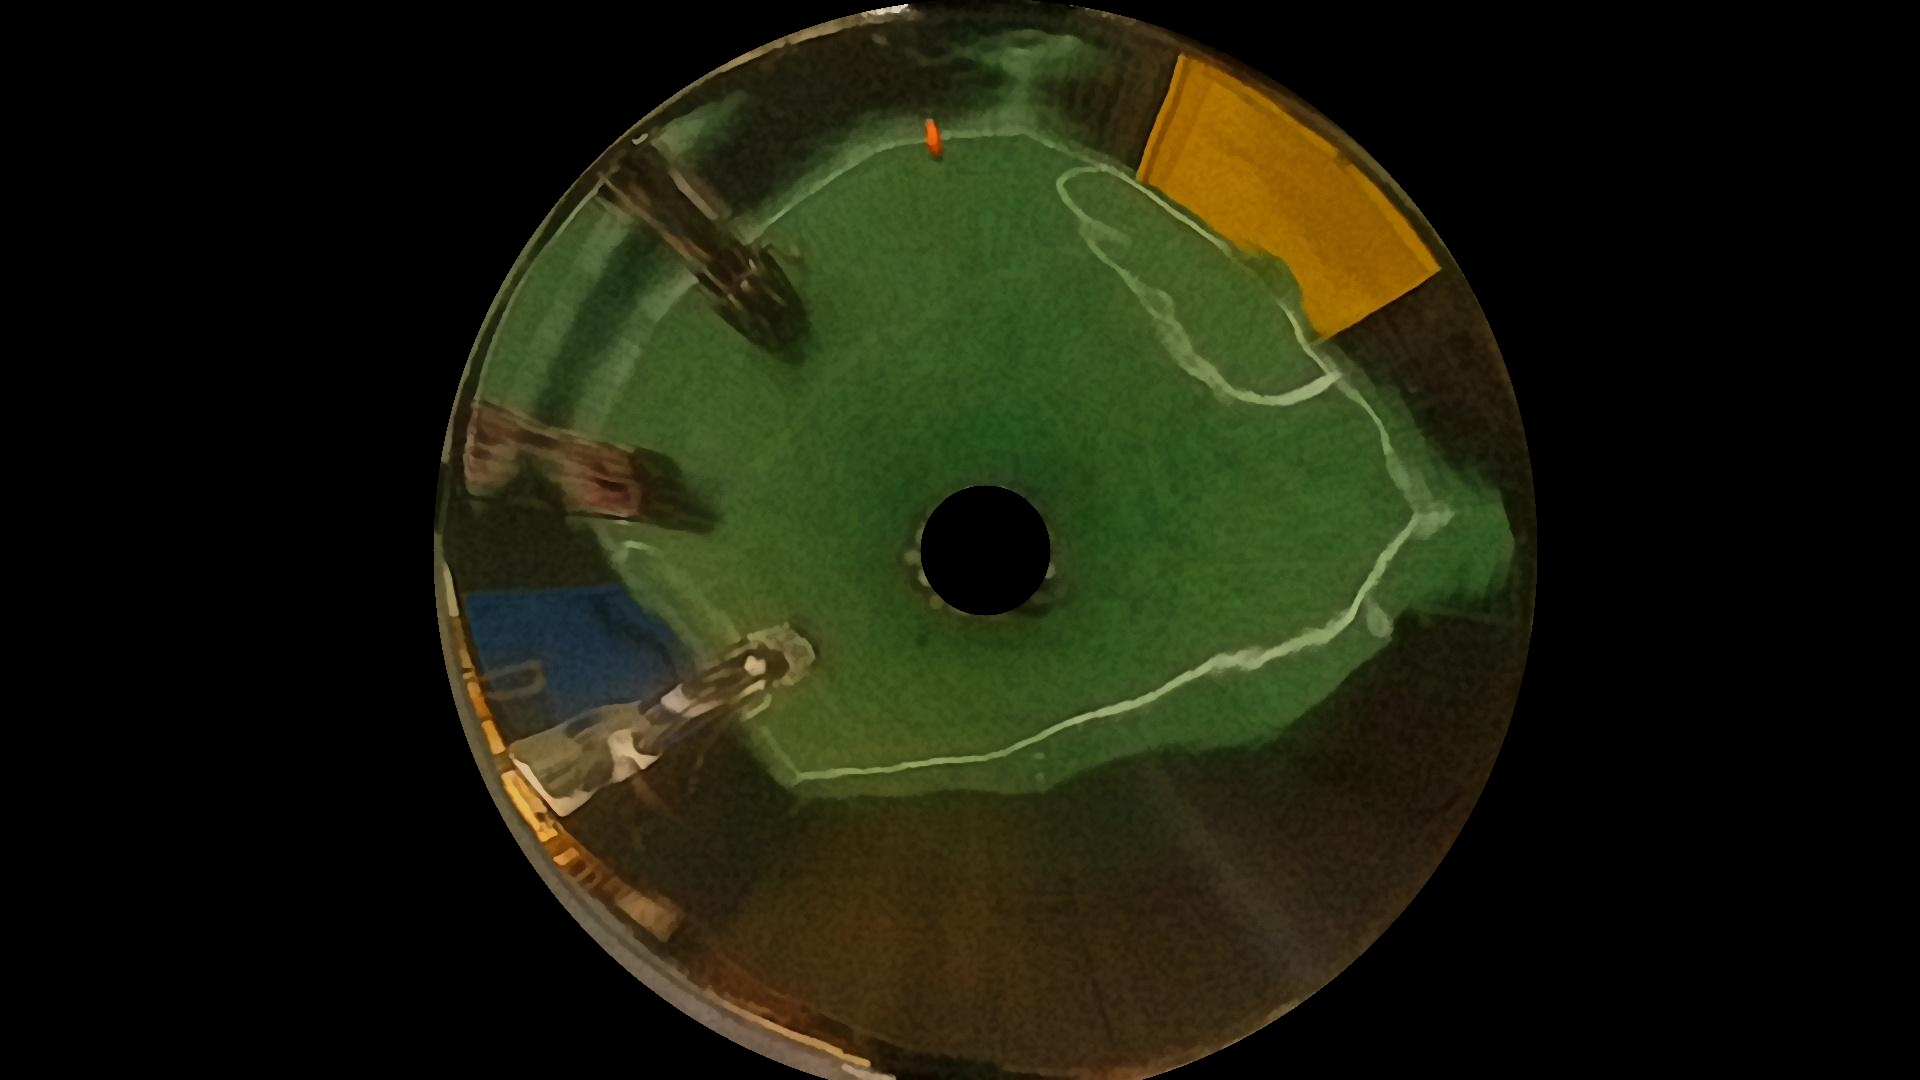ball: (920, 113, 940, 158)
blue-goal: (464, 574, 727, 804)
robots: (553, 138, 818, 372), (458, 673, 844, 806), (448, 404, 740, 553)
yellow-goal: (1131, 76, 1432, 371)
